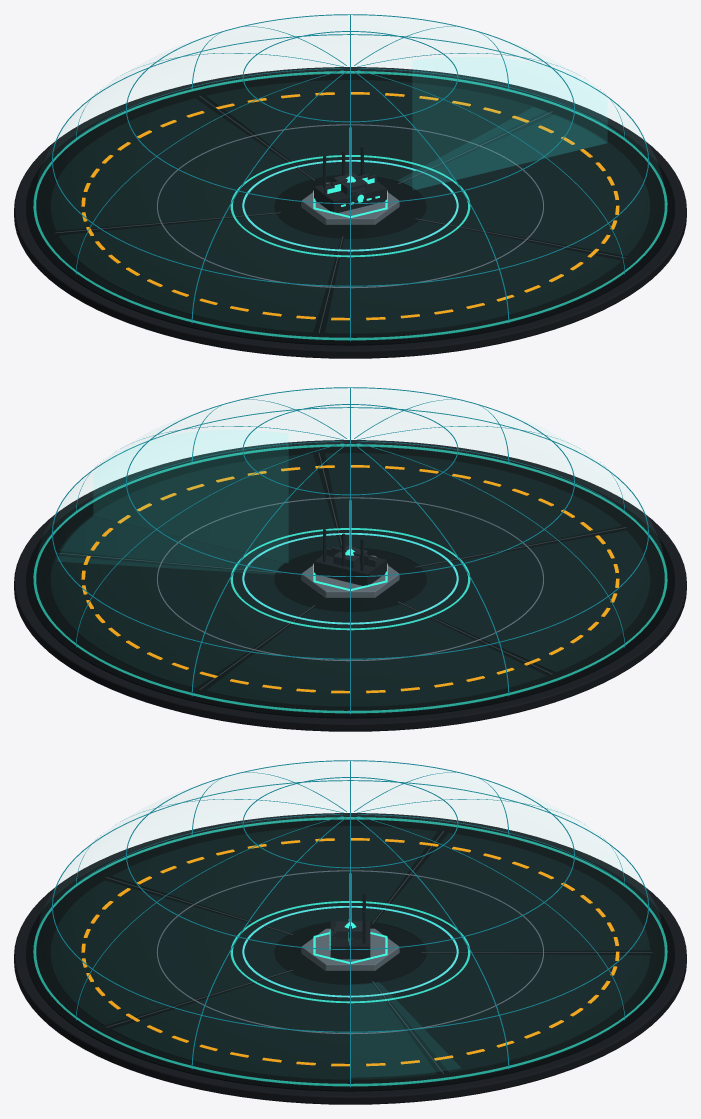
The model's file is sonar.glb.
3 renders of one model, top to bottom at view 1: azimuth 30°, elevation 25°; view 2: azimuth 150°, elevation 25°; view 3: azimuth 270°, elevation 25°, orthographic.
Visible parts, largest first — view 1: Sonar_Ground, Sonar_Sector_00, Sonar_Sector_01, Sonar_Sector_03, Sonar_Sector_04, Sonar_Sector_02, Sonar_Plate, Sonar_DomeLines, Sonar_Beam, Sonar_Rim, Sonar_Ring_New, Sonar_Gateway (+5 smaller); view 2: Sonar_Ground, Sonar_Sector_02, Sonar_Sector_00, Sonar_Sector_01, Sonar_Sector_03, Sonar_Sector_04, Sonar_Plate, Sonar_DomeLines, Sonar_Rim, Sonar_Ring_New, Sonar_Gateway, Sonar_GatewayBase (+4 smaller); view 3: Sonar_Ground, Sonar_Sector_02, Sonar_Sector_04, Sonar_Sector_01, Sonar_Sector_03, Sonar_Sector_00, Sonar_Plate, Sonar_DomeLines, Sonar_Rim, Sonar_Ring_New, Sonar_GatewayBase, Sonar_Ring_Known (+4 smaller).
Boxes of the visible parts, x1,y1,x2,y2 form: Sonar_Ground: (26, 70, 674, 345); Sonar_Sector_00: (58, 214, 340, 333); Sonar_Sector_01: (50, 98, 310, 231); Sonar_Sector_03: (402, 114, 650, 256); Sonar_Sector_04: (325, 220, 621, 334); Sonar_Sector_02: (205, 80, 546, 182); Sonar_Plate: (14, 67, 686, 358); Sonar_DomeLines: (34, 14, 666, 341); Sonar_Beam: (412, 107, 606, 188); Sonar_Rim: (33, 71, 667, 340); Sonar_Ring_New: (81, 92, 619, 320); Sonar_Gateway: (314, 146, 386, 212); Sonar_Ground: (26, 443, 674, 718); Sonar_Sector_02: (50, 556, 310, 688); Sonar_Sector_00: (403, 530, 650, 672); Sonar_Sector_01: (205, 604, 546, 707); Sonar_Sector_03: (58, 454, 340, 572); Sonar_Sector_04: (325, 453, 621, 565); Sonar_Plate: (14, 440, 686, 731); Sonar_DomeLines: (34, 387, 666, 714); Sonar_Rim: (33, 444, 667, 713); Sonar_Ring_New: (81, 465, 619, 693); Sonar_Gateway: (314, 529, 386, 585); Sonar_GatewayBase: (301, 555, 399, 597); Sonar_Ground: (26, 816, 674, 1091); Sonar_Sector_02: (375, 953, 650, 1072); Sonar_Sector_04: (50, 880, 287, 1025); Sonar_Sector_01: (375, 833, 650, 952); Sonar_Sector_03: (111, 972, 437, 1080); Sonar_Sector_00: (111, 826, 437, 933); Sonar_Plate: (14, 813, 686, 1104); Sonar_DomeLines: (34, 760, 666, 1087); Sonar_Rim: (33, 817, 667, 1086); Sonar_Ring_New: (81, 838, 619, 1066); Sonar_GatewayBase: (301, 928, 399, 970); Sonar_Ring_Known: (156, 870, 544, 1034).
Bounding box in the file's own units: 6.8 × 1.67 × 6.8.
